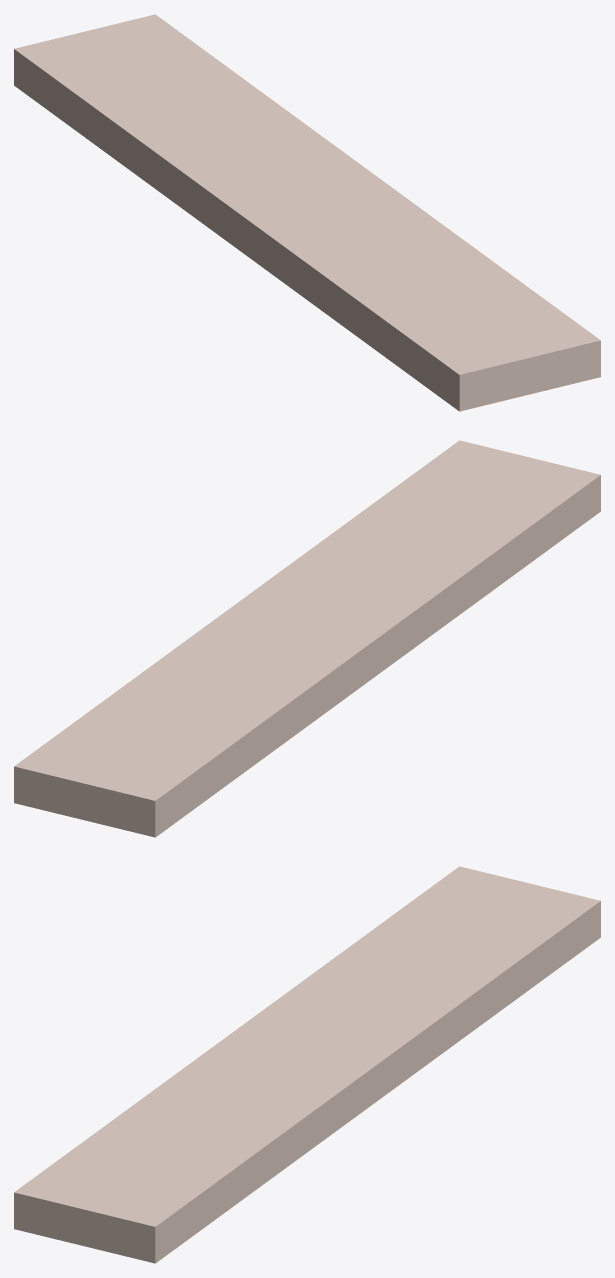
File: Elevator_Roof.fbx
3 renders of one model, top to bottom at view 1: azimuth 30°, elevation 25°; view 2: azimuth 150°, elevation 25°; view 3: azimuth 330°, elevation 25°, orthographic.
Parts seen in each view (by area): view 1: Cube.003; view 2: Cube.003; view 3: Cube.003.
Boxes of the visible parts, x1,y1,x2,y2 form: Cube.003: (14,14,600,411); Cube.003: (14,440,600,837); Cube.003: (14,866,600,1263).
Bounding box in the file's own units: 1977 × 490 × 10787.
